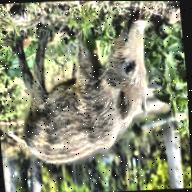boar: (0, 0, 168, 174)
